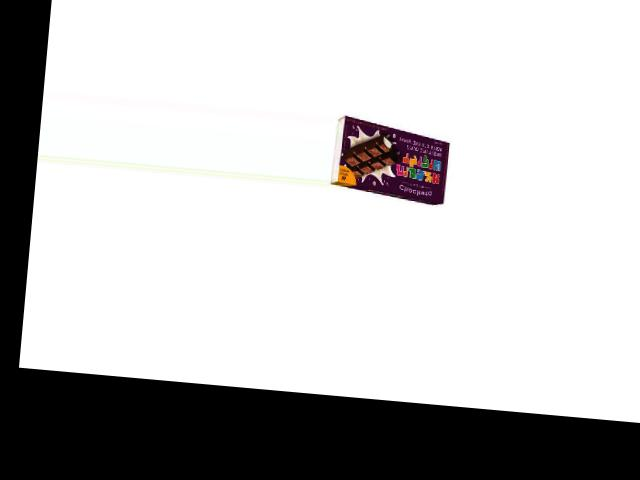chocolate: (327, 120, 458, 206)
